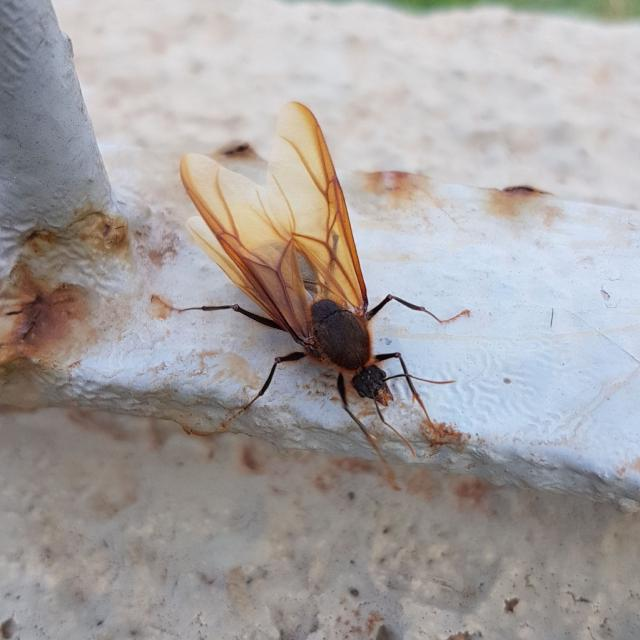Alive-Male-Alate: (150, 100, 472, 490)
